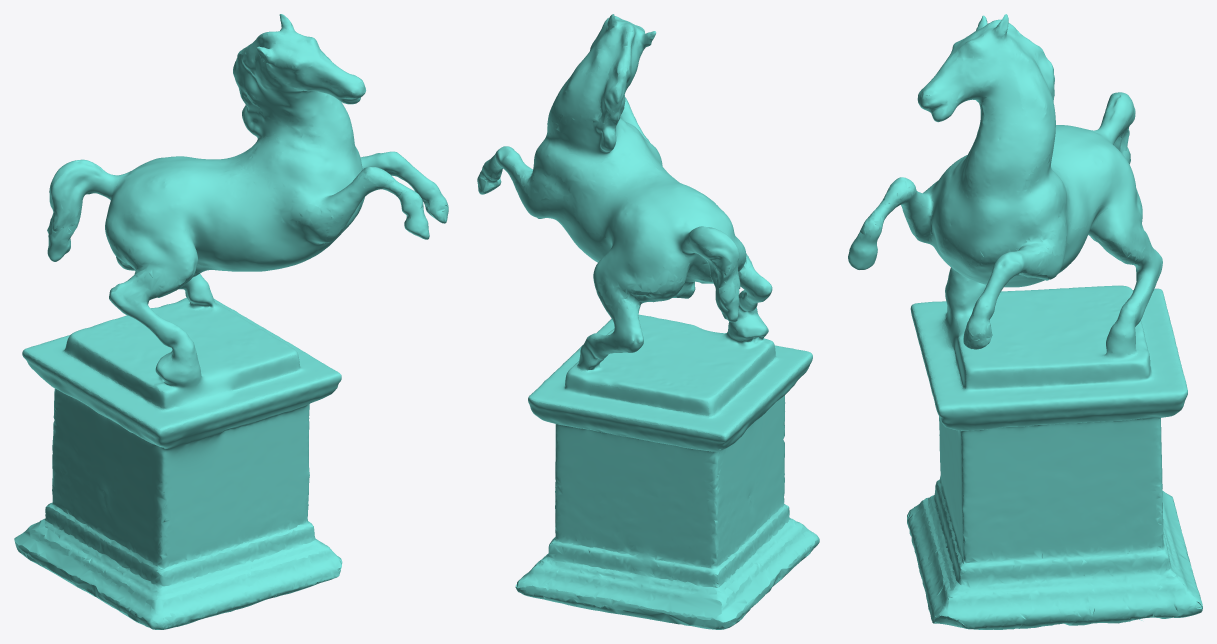
The picture shows the model from 3 angles, left to right: view 1: azimuth 30°, elevation 25°; view 2: azimuth 150°, elevation 25°; view 3: azimuth 270°, elevation 25°; orthographic projection. The views are drawn at different scales.
Visible parts, largest first — view 1: split_parent_0; view 2: split_parent_0; view 3: split_parent_0.
Part boxes in pixels (x1,y1,x2,y2): split_parent_0: [14, 14, 448, 629]; split_parent_0: [477, 14, 819, 629]; split_parent_0: [848, 14, 1202, 629].
Size of the model in its own units: 0.6617 by 1 by 0.5323.
